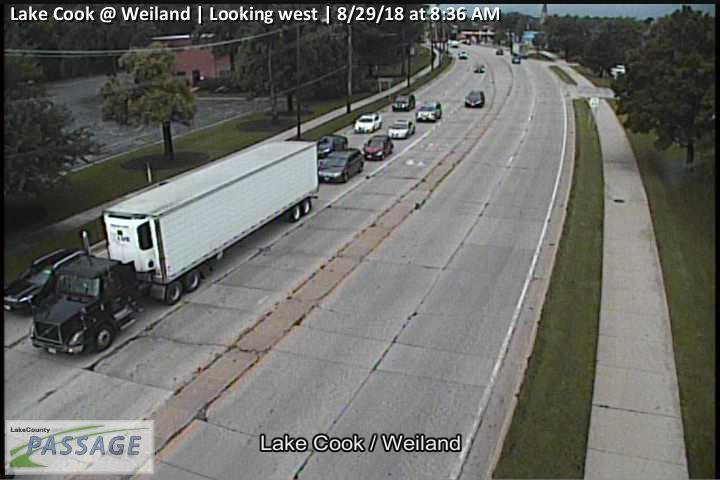SUV: (4, 248, 88, 312), (319, 147, 365, 183), (364, 135, 393, 160), (355, 111, 382, 132), (417, 101, 441, 122), (393, 93, 415, 111), (459, 50, 469, 58)
Sedan: (315, 135, 348, 158), (388, 118, 415, 139), (465, 90, 485, 108)
Truck: (31, 139, 318, 351)
